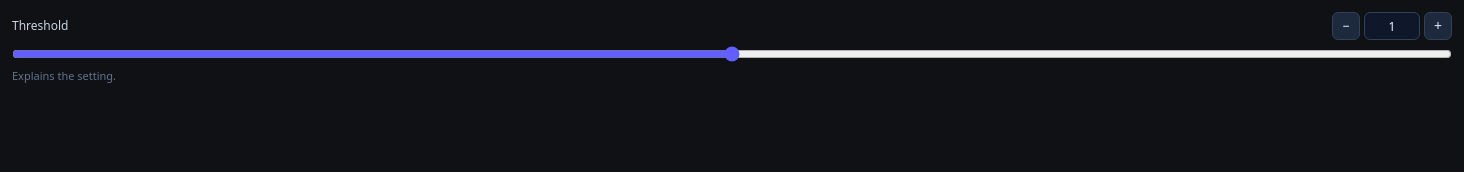
it: NumberSliderField › steps with the plus and minus buttons and disables them at the limits
Step 1. Click the button named "Increase Threshold" → (1438, 26), box [1424,12,1452,40]
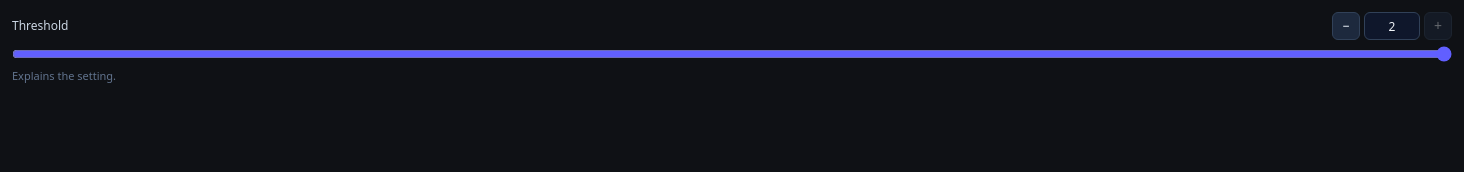
Expected: the field labelled "Threshold" holds "2", [1364,12,1420,40]
Step 2. Click the button named "Decrease Threshold" → (1346, 26), box [1332,12,1360,40]
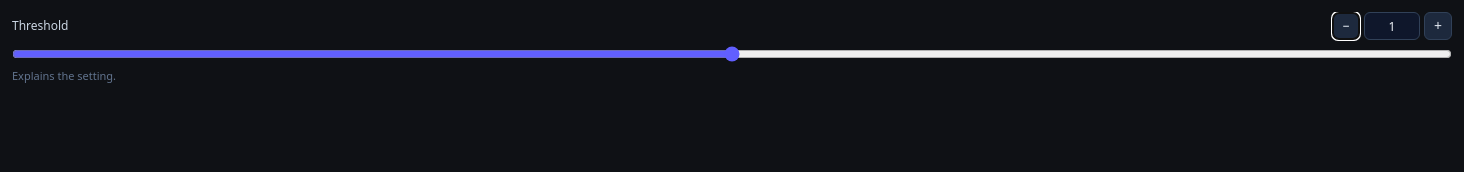
Step 3. Click the button named "Decrease Threshold" → (1346, 26), box [1332,12,1360,40]
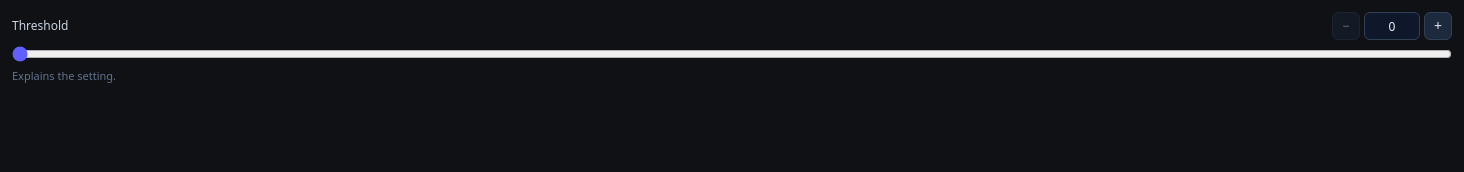
Expected: the field labelled "Threshold" holds "0", [1364,12,1420,40]
